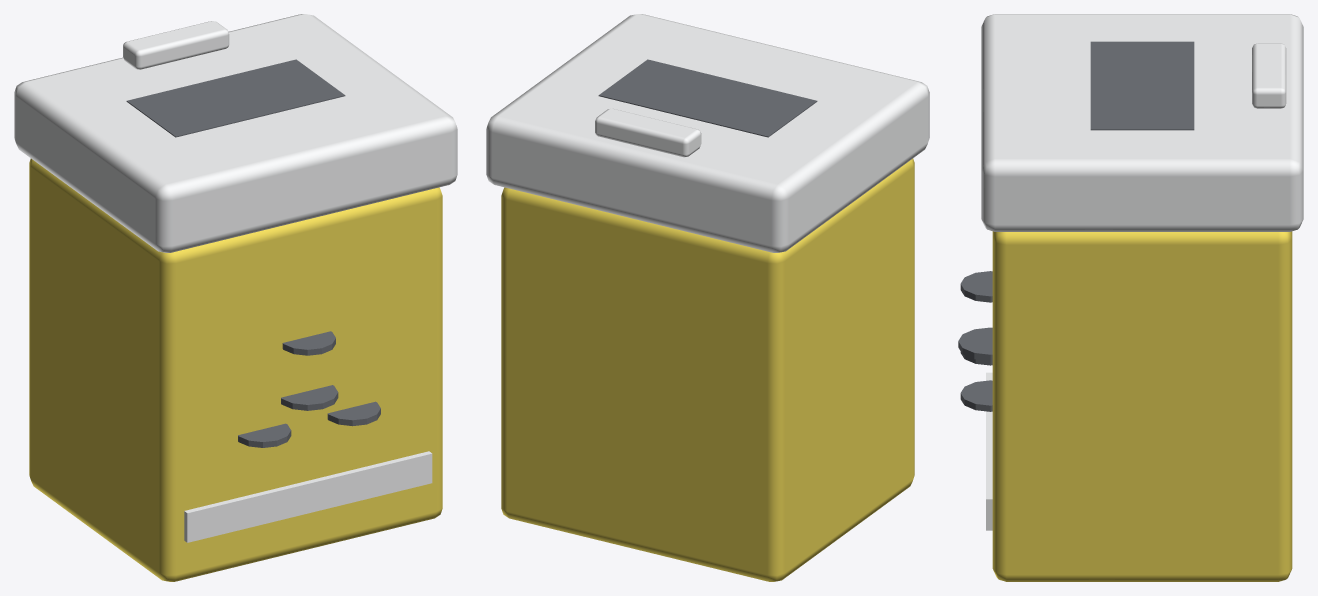
The model's file is sharps-bin.glb.
The picture shows the model from 3 angles, left to right: view 1: azimuth 30°, elevation 25°; view 2: azimuth 150°, elevation 25°; view 3: azimuth 270°, elevation 25°; orthographic projection. The views are drawn at different scales.
Parts seen in each view (by area): view 1: sharps-bin; view 2: sharps-bin; view 3: sharps-bin.
Part boxes in pixels (x1,y1,x2,y2): sharps-bin: (14, 14, 457, 581); sharps-bin: (486, 14, 929, 581); sharps-bin: (958, 14, 1303, 581).
Size of the model in its own units: 0.32 by 0.43 by 0.3.
